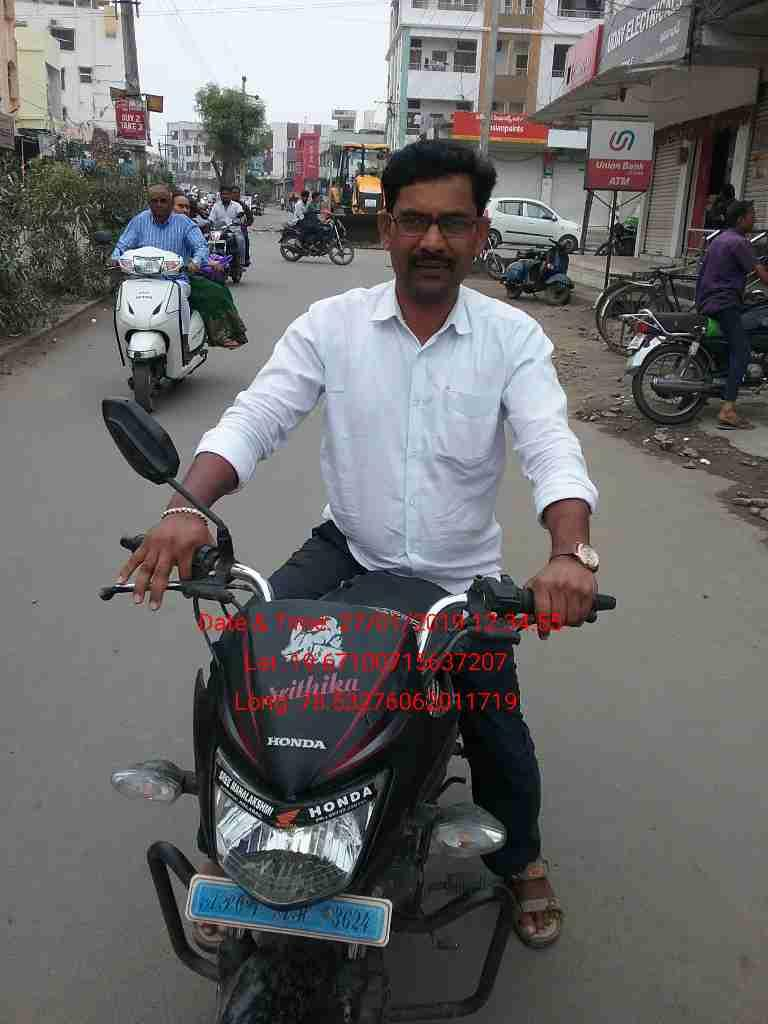without_helmet: (108, 130, 625, 1024), (614, 172, 768, 466), (72, 172, 233, 388), (268, 185, 368, 268), (191, 179, 264, 284)
